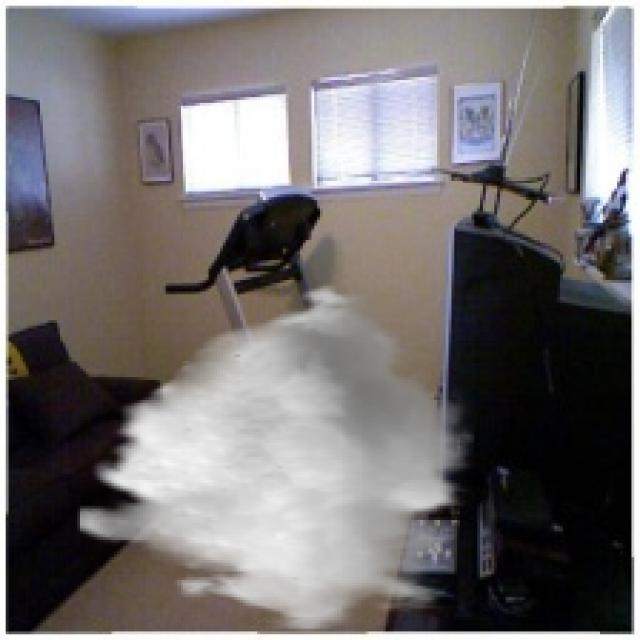smoke: (77, 277, 474, 632)
